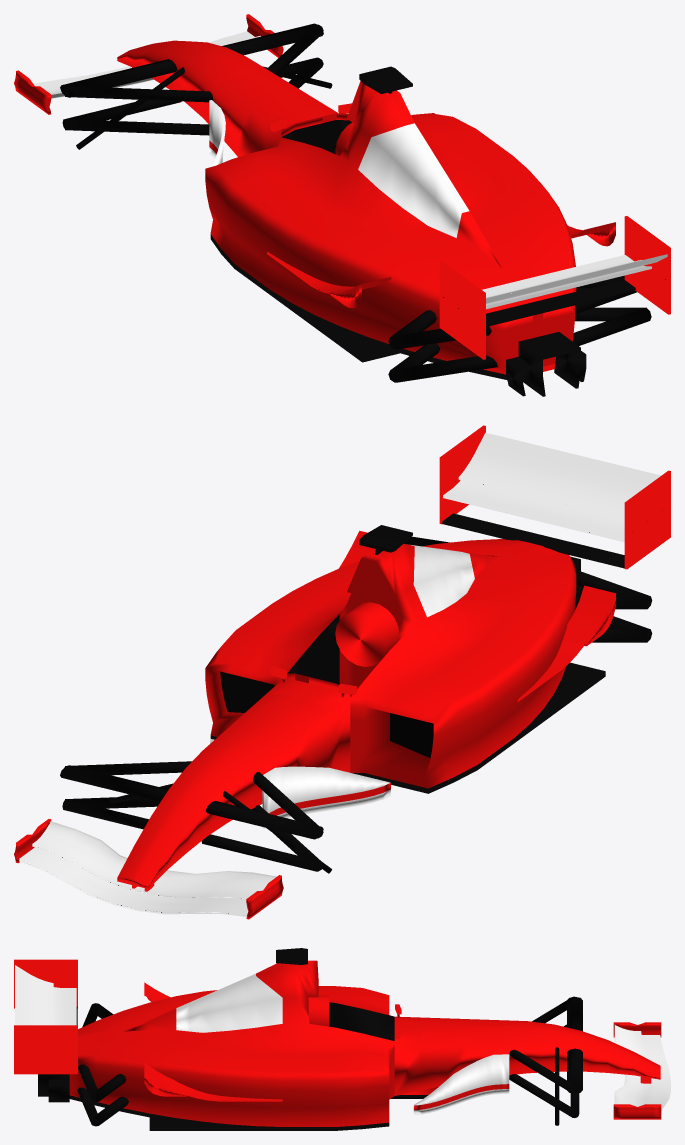
File: ferrari.obj
3 renders of one model, top to bottom at view 1: azimuth 30°, elevation 25°; view 2: azimuth 150°, elevation 25°; view 3: azimuth 270°, elevation 25°, orthographic. The views are drawn at different scales.
Visible parts, largest first — view 1: Bodywork, RW_Endplate_L, RW_Endplate_R, RW_Wing_1, RW_Support, Susp_25, Susp_26, Susp_27, Susp_21, RW_Wing_2, Susp_20, Susp_31 (+15 smaller); view 2: Bodywork, RW_Wing_2, FW_Pane_2, Bargeboard_L, FW_Pane_1, RW_Wing_1, RW_Endplate_L, RW_Support, Winglet_L, RW_Endplate_R, Susp_27, Susp_31 (+7 smaller); view 3: Bodywork, RW_Endplate_R, Bargeboard_R, RW_Wing_2, FW_Pane_2, RW_Endplate_L, FW_Pane_1, Winglet_R, RW_Wing_1, FW_Endplate_R, Susp_30, Susp_29 (+13 smaller).
Boxes of the visible parts, <box> form: Bodywork: <box>117,40,588,379</box>; RW_Endplate_L: <box>439,261,485,359</box>; RW_Endplate_R: <box>624,216,670,314</box>; RW_Wing_1: <box>482,255,651,309</box>; RW_Support: <box>486,280,635,326</box>; Susp_25: <box>65,86,213,102</box>; Susp_26: <box>65,119,209,135</box>; Susp_27: <box>60,59,177,97</box>; Susp_21: <box>394,355,497,382</box>; RW_Wing_2: <box>486,254,667,303</box>; Susp_20: <box>572,308,651,345</box>; Susp_31: <box>222,23,323,55</box>; Bodywork: <box>117,539,605,888</box>; RW_Wing_2: <box>458,432,661,519</box>; FW_Pane_2: <box>32,821,276,900</box>; Bargeboard_L: <box>262,766,390,828</box>; FW_Pane_1: <box>19,847,248,916</box>; RW_Wing_1: <box>443,480,624,542</box>; RW_Endplate_L: <box>624,470,670,569</box>; RW_Support: <box>442,513,624,568</box>; Winglet_L: <box>517,585,612,701</box>; RW_Endplate_R: <box>439,425,485,524</box>; Susp_27: <box>206,801,323,839</box>; Susp_31: <box>60,765,168,801</box>; Bodywork: <box>69,960,660,1130</box>; RW_Endplate_R: <box>14,1025,77,1074</box>; Bargeboard_R: <box>413,1054,509,1115</box>; RW_Wing_2: <box>15,965,53,1025</box>; FW_Pane_2: <box>614,1024,651,1106</box>; RW_Endplate_L: <box>14,959,77,1008</box>; FW_Pane_1: <box>641,1035,670,1112</box>; Winglet_R: <box>144,1062,282,1101</box>; RW_Wing_1: <box>53,987,76,1025</box>; FW_Endplate_R: <box>613,1104,661,1119</box>; Susp_30: <box>509,1074,574,1117</box>; Susp_29: <box>509,1049,575,1093</box>.
Size of the model in its own units: 20.45 by 14.3 by 61.71.
